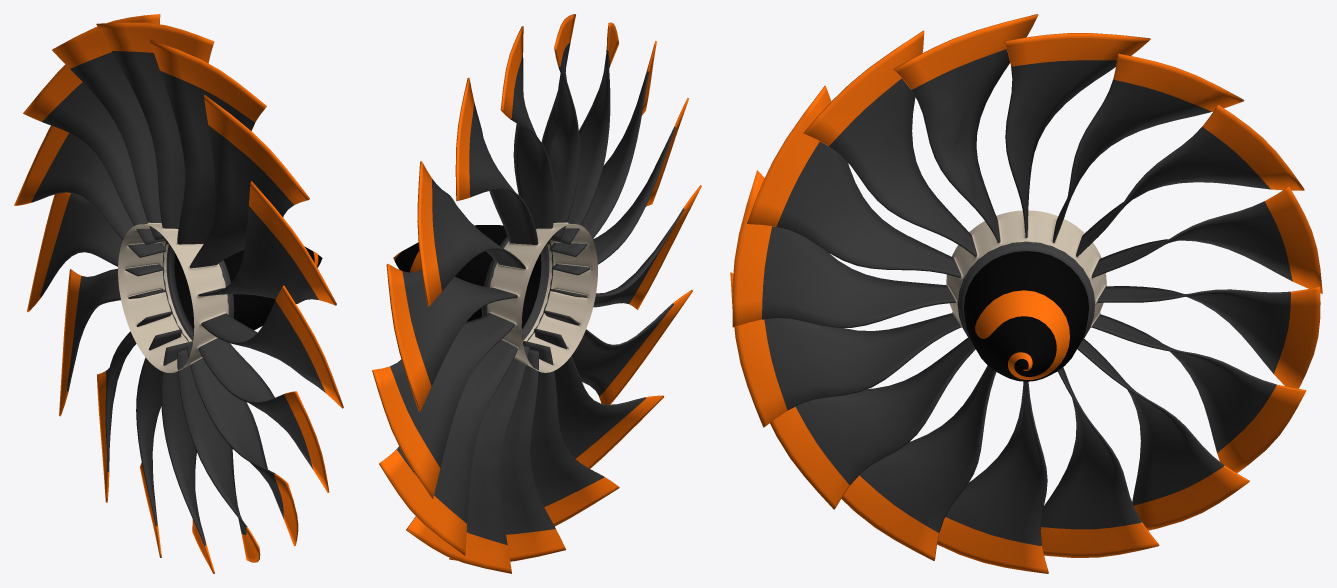
The model's file is 4_low_fan_turbine.FBX.
3 views of the same model, side by side, from view 1: azimuth 30°, elevation 25°; view 2: azimuth 150°, elevation 25°; view 3: azimuth 270°, elevation 25° (orthographic). The views are drawn at different scales.
Parts seen in each view (by area): view 1: low_fan_blades, 4_low_fan_turbine; view 2: low_fan_blades, 4_low_fan_turbine; view 3: low_fan_blades, 4_low_fan_turbine.
Boxes of the visible parts, <box> form: low_fan_blades: <box>14,14,343,573</box>; 4_low_fan_turbine: <box>118,222,322,373</box>; low_fan_blades: <box>372,14,701,573</box>; 4_low_fan_turbine: <box>393,222,597,372</box>; low_fan_blades: <box>730,14,1322,573</box>; 4_low_fan_turbine: <box>946,210,1106,381</box>.
Size of the model in its own units: 0.4136 by 1.2 by 1.2.
